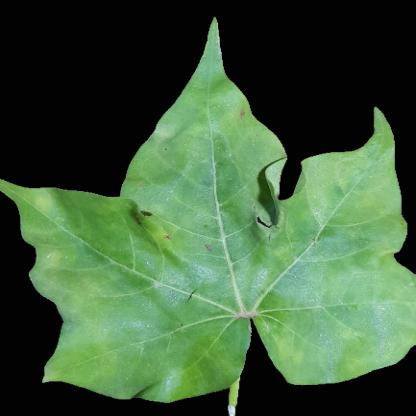curl_stage1: (263, 325, 375, 384), (153, 344, 260, 402), (28, 194, 110, 264), (305, 259, 411, 311), (181, 84, 247, 166), (47, 262, 115, 326), (128, 216, 197, 264), (65, 326, 117, 384), (253, 229, 320, 270), (311, 163, 375, 201)
healthy: (158, 270, 255, 331), (139, 158, 225, 210)
